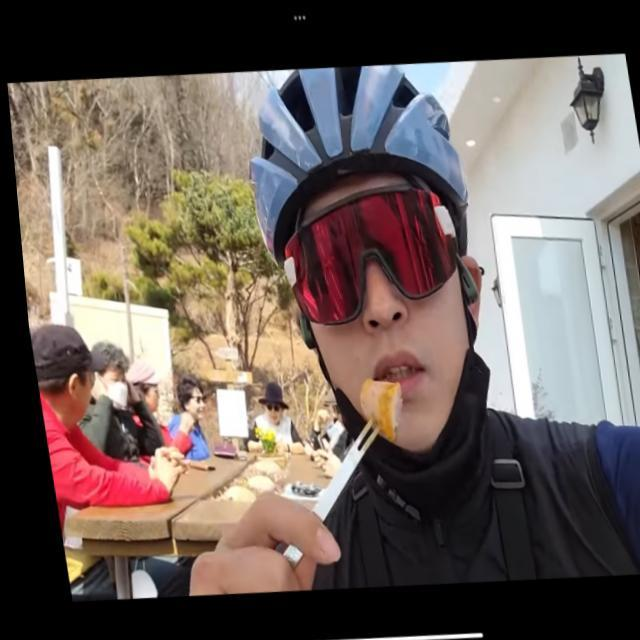Helmet: (244, 64, 493, 456)
